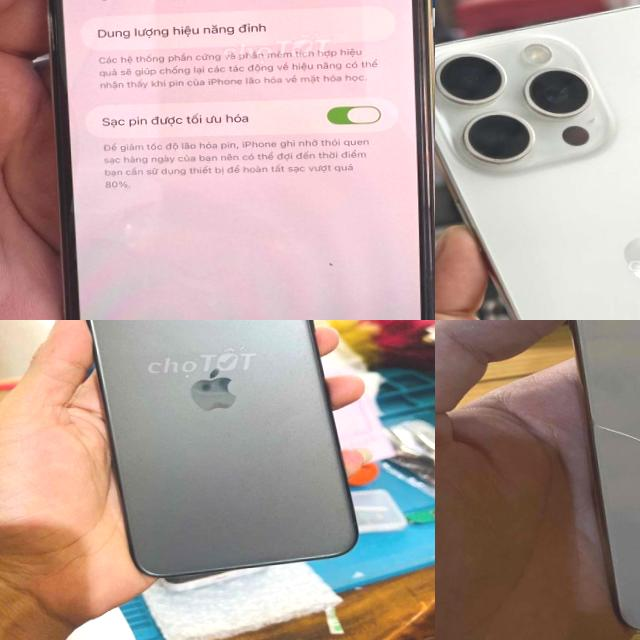gen_11: (22, 0, 435, 320), (75, 320, 373, 585)
gen_15: (435, 10, 640, 320)
gen_x_xs: (537, 320, 640, 639)
